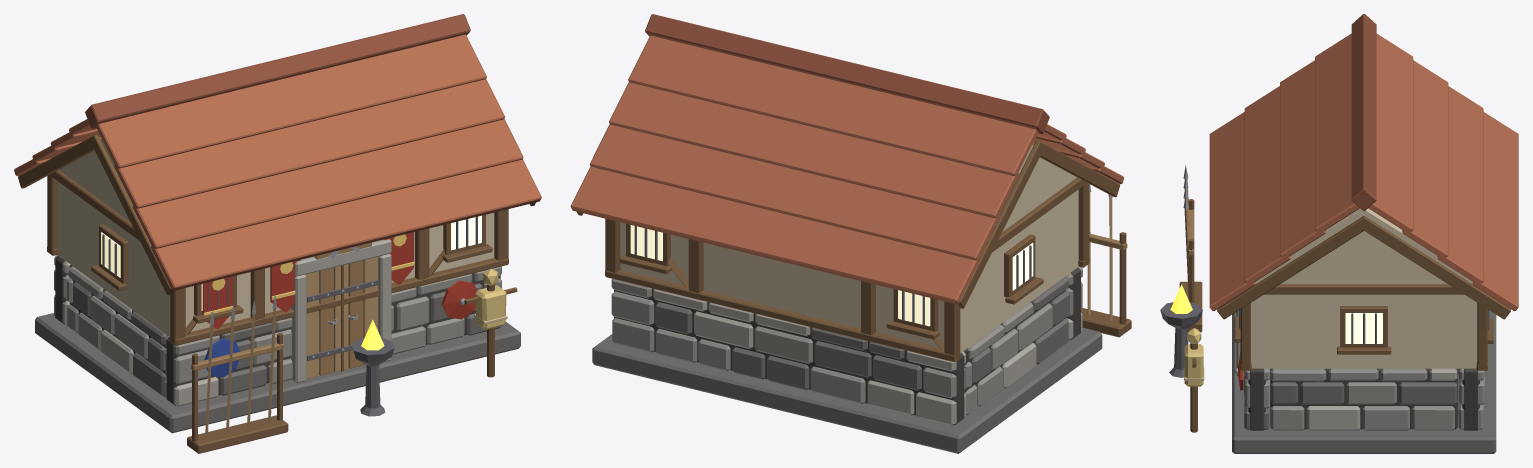
File: barracks_3.glb
3 views of the same model, side by side, from view 1: azimuth 30°, elevation 25°; view 2: azimuth 150°, elevation 25°; view 3: azimuth 270°, elevation 25° (orthographic). The views are drawn at different scales.
Visible parts, largest first — view 1: Barracks; view 2: Barracks; view 3: Barracks.
Boxes of the visible parts, x1,y1,x2,y2 form: Barracks: [14, 14, 541, 453]; Barracks: [570, 14, 1131, 453]; Barracks: [1160, 14, 1518, 453].
Size of the model in its own units: 6.6 by 4.76 by 5.7.
